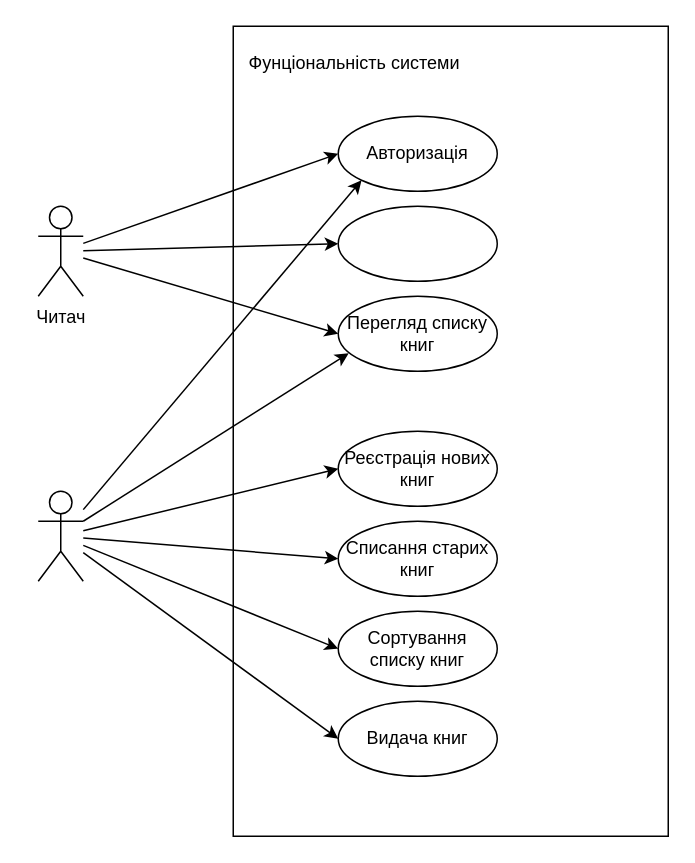
Image size: 695x863. Some labels were removed from this diagram. The shapes that lost their labels are listed below. From the top down, each one's centre as x and y in pixels, then its label:
At [417,243]: "Реєстрація".
At [60,535]: "Власник".
